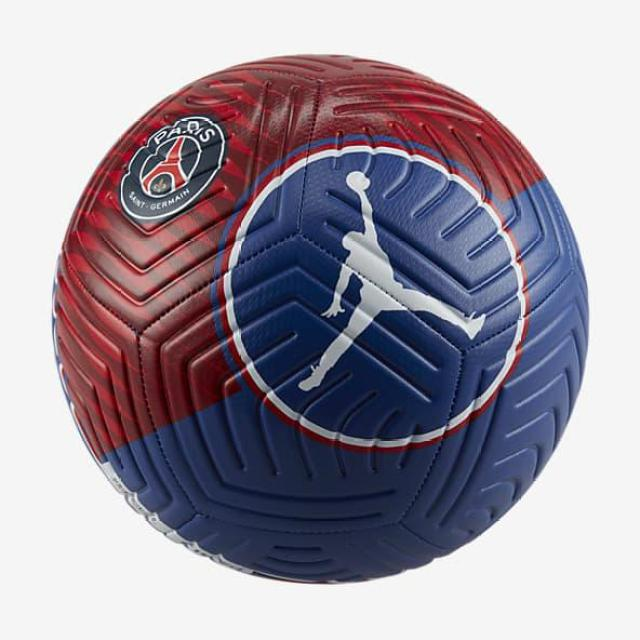Soccer Ball: (54, 52, 588, 586)
